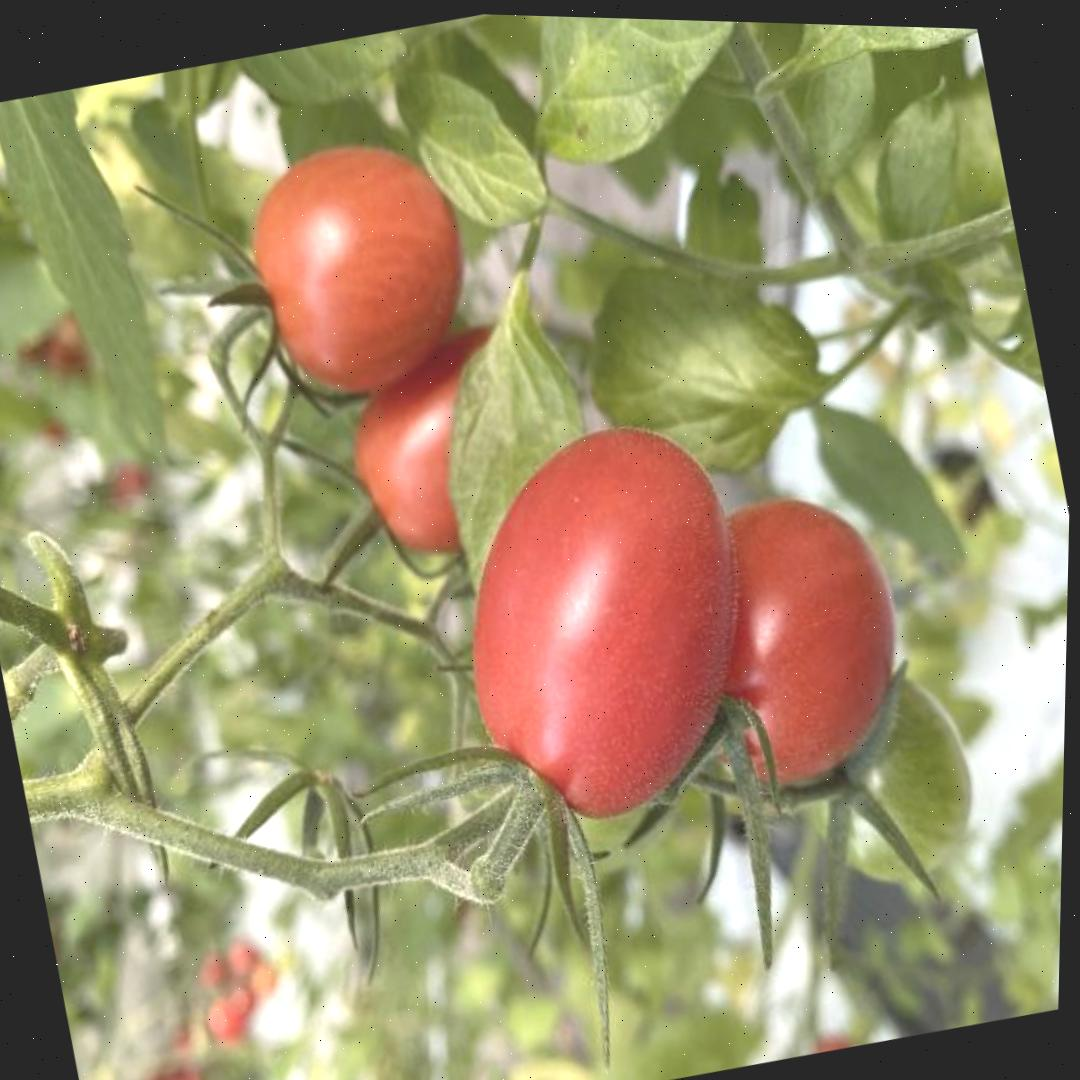matang: (421, 402, 786, 850), (640, 472, 928, 807), (228, 121, 490, 411)
